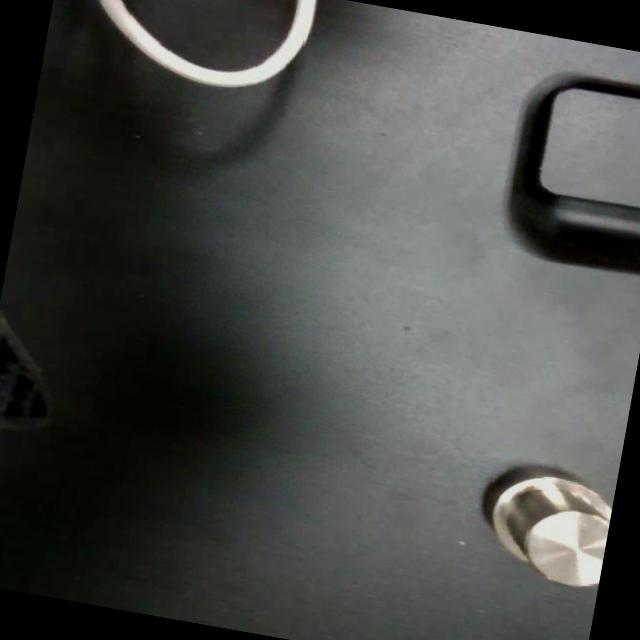sensor: (480, 466, 616, 590)
